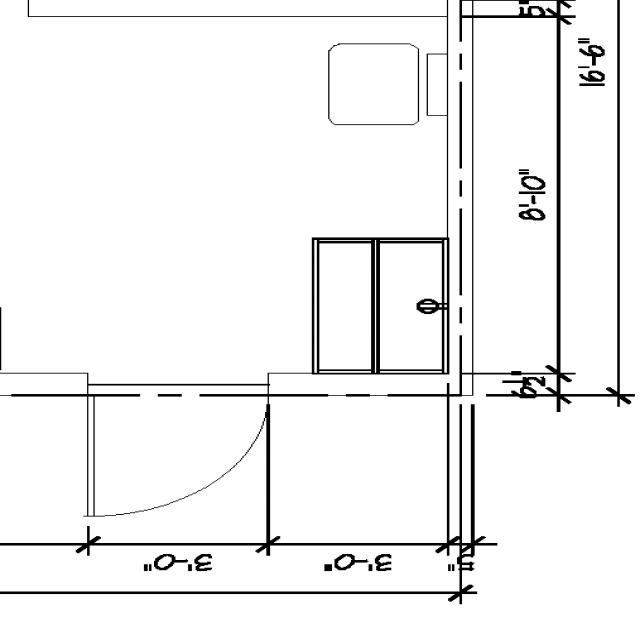Doors: (73, 389, 276, 520)
